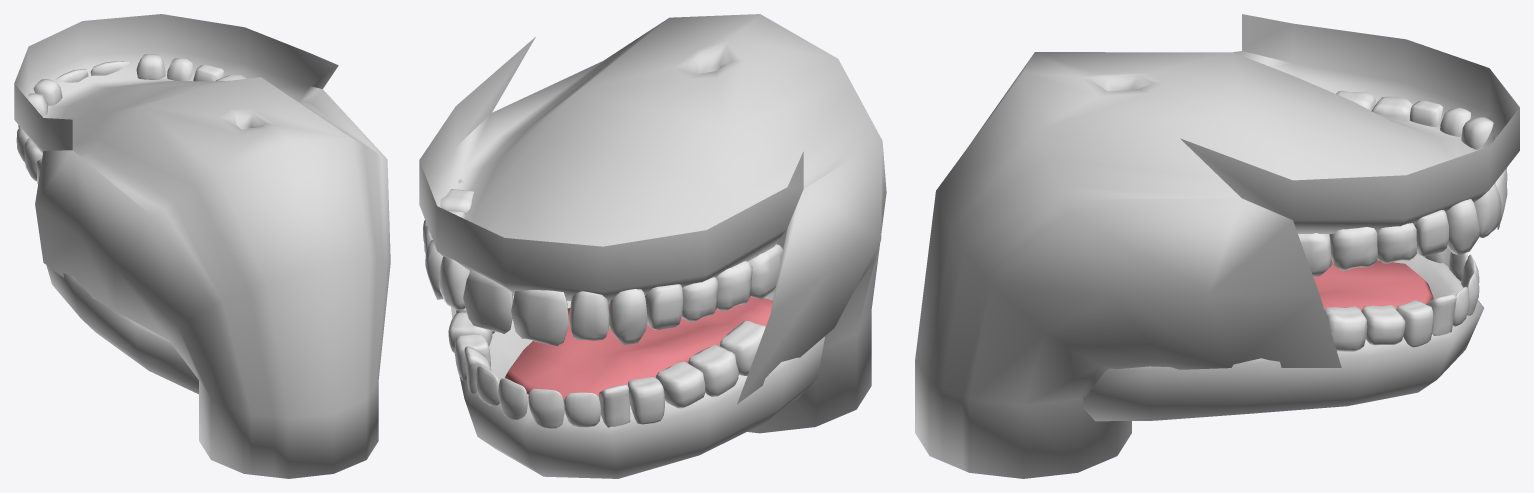
The model's file is Mouth.fbx.
3 renders of one model, left to right at view 1: azimuth 30°, elevation 25°; view 2: azimuth 150°, elevation 25°; view 3: azimuth 270°, elevation 25°, orthographic. The views are drawn at different scales.
Visible parts, largest first — view 1: toothes14_Mesh.035; view 2: toothes14_Mesh.035; view 3: toothes14_Mesh.035.
Part boxes in pixels (x1,y1,x2,y2): toothes14_Mesh.035: [14, 14, 390, 478]; toothes14_Mesh.035: [419, 14, 886, 478]; toothes14_Mesh.035: [915, 14, 1519, 478].
Size of the model in its own units: 194 by 205 by 310.
